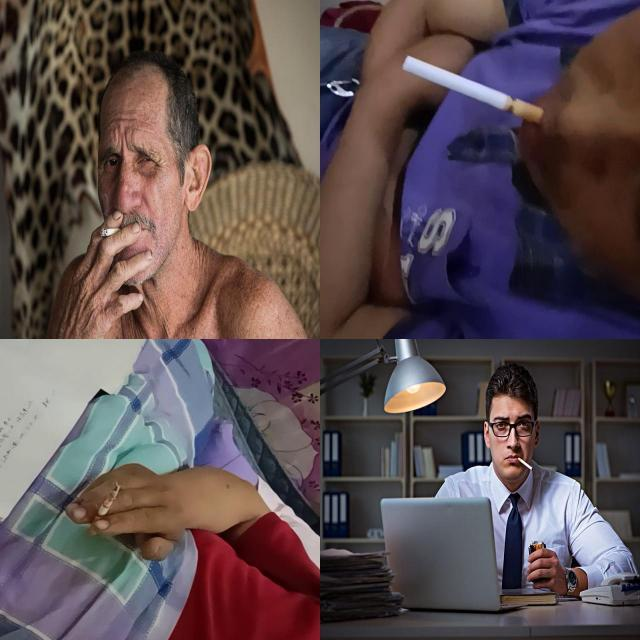cigarette: (402, 53, 546, 125), (88, 482, 122, 536), (98, 225, 125, 239), (517, 456, 534, 472)
